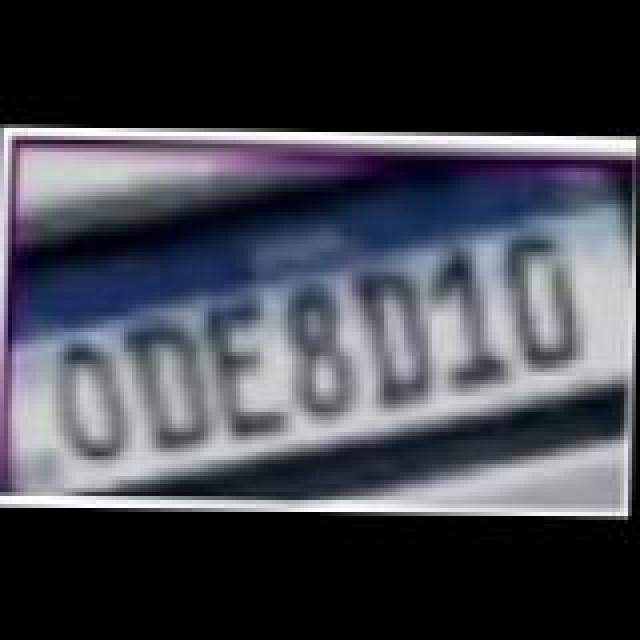1: (428, 252, 516, 392)
8: (282, 280, 366, 416)
D: (502, 230, 594, 370), (352, 268, 440, 408), (122, 322, 218, 450)
E: (204, 296, 292, 436)
O: (52, 342, 136, 466)
